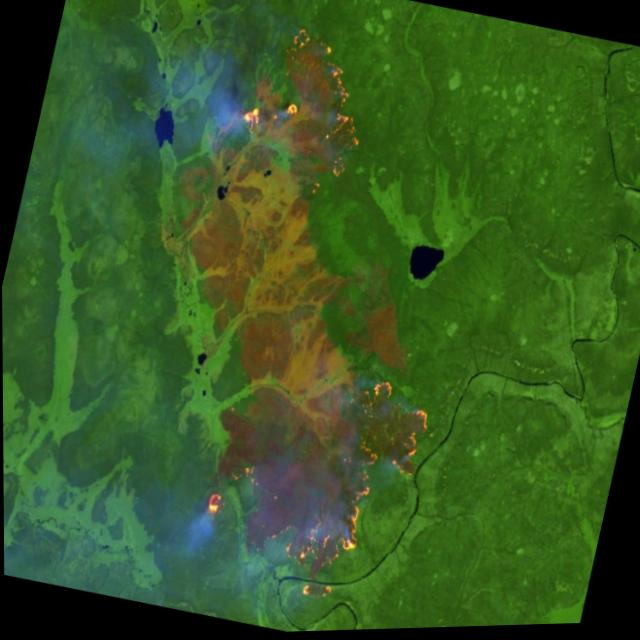fire: (173, 332, 440, 627), (222, 4, 391, 209)
